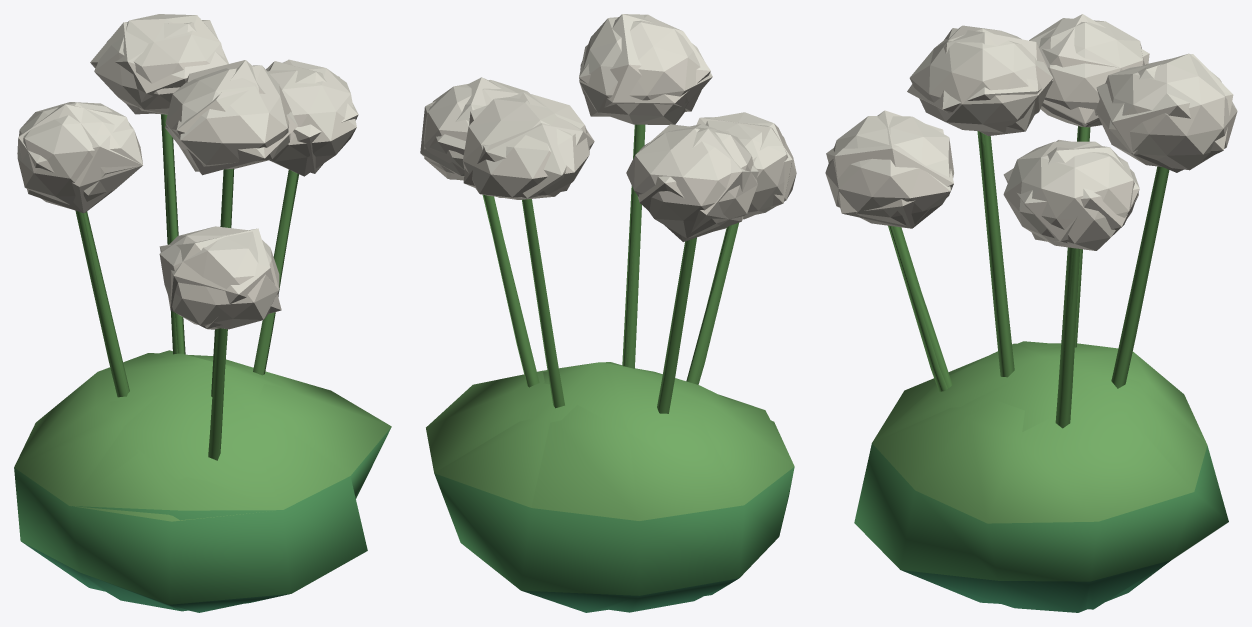
The model's file is chrysanthemum_white.glb.
3 renders of one model, left to right at view 1: azimuth 30°, elevation 25°; view 2: azimuth 150°, elevation 25°; view 3: azimuth 270°, elevation 25°, orthographic. The views are drawn at different scales.
Parts seen in each view (by area): view 1: body__far, body_nl, petal_white_nl, stem; view 2: body__far, petal_white_nl, body_nl, stem; view 3: body__far, petal_white_nl, body_nl, stem.
Part boxes in pixels (bbox=[...]): body__far: bbox=[14, 20, 391, 612]; body_nl: bbox=[15, 353, 391, 611]; petal_white_nl: bbox=[17, 14, 356, 329]; stem: bbox=[75, 114, 297, 460]; body__far: bbox=[420, 14, 794, 612]; petal_white_nl: bbox=[423, 14, 796, 238]; body_nl: bbox=[426, 363, 793, 612]; stem: bbox=[484, 124, 738, 413]; body__far: bbox=[826, 14, 1233, 609]; petal_white_nl: bbox=[825, 18, 1237, 250]; body_nl: bbox=[873, 343, 1206, 612]; stem: bbox=[888, 126, 1169, 428].
Bounding box in the file's own units: 8.68 × 13.43 × 9.27.
